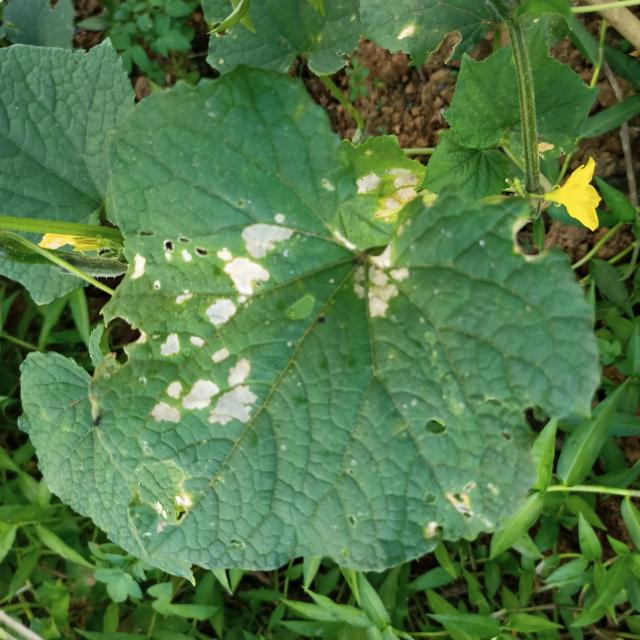disease_cucumber: (120, 208, 300, 330), (138, 330, 274, 451), (341, 231, 420, 324)
